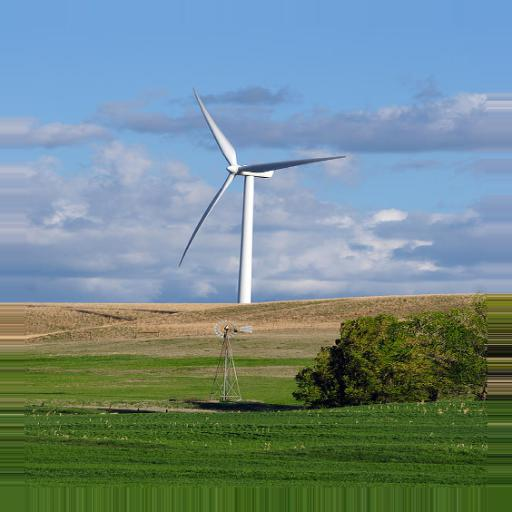wind turbine: (177, 88, 349, 304)
